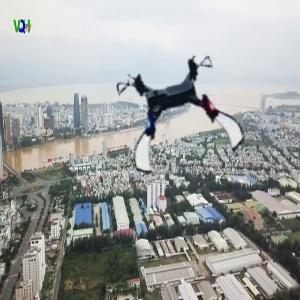drone: (123, 57, 241, 175)
